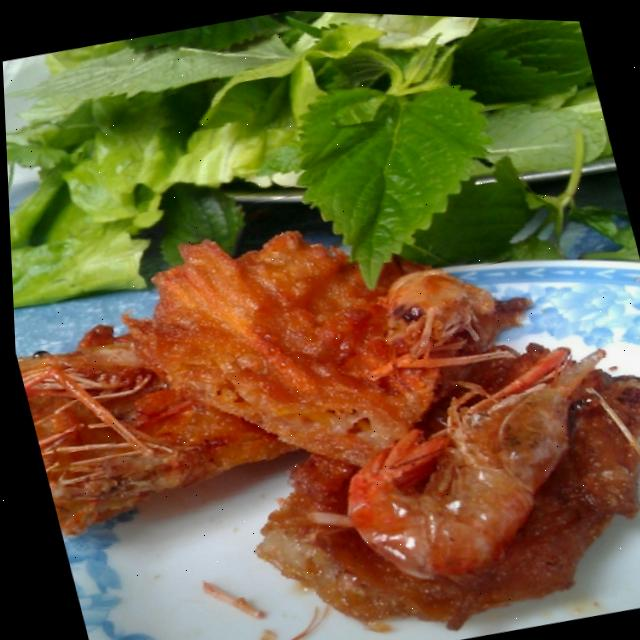炸货点心: (5, 142, 640, 640)
熟制海鲜: (5, 142, 640, 640)
